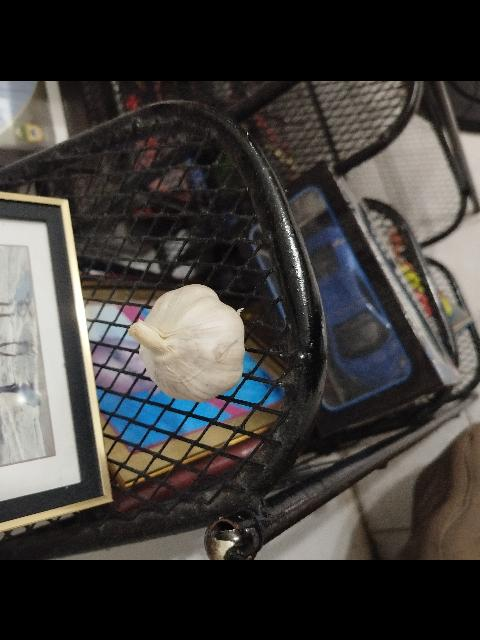garlic: (127, 283, 245, 401)
